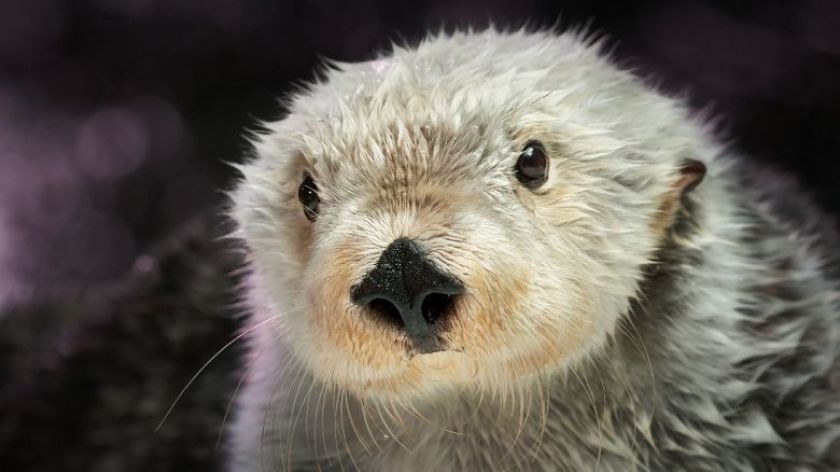otter: (206, 28, 838, 462)
